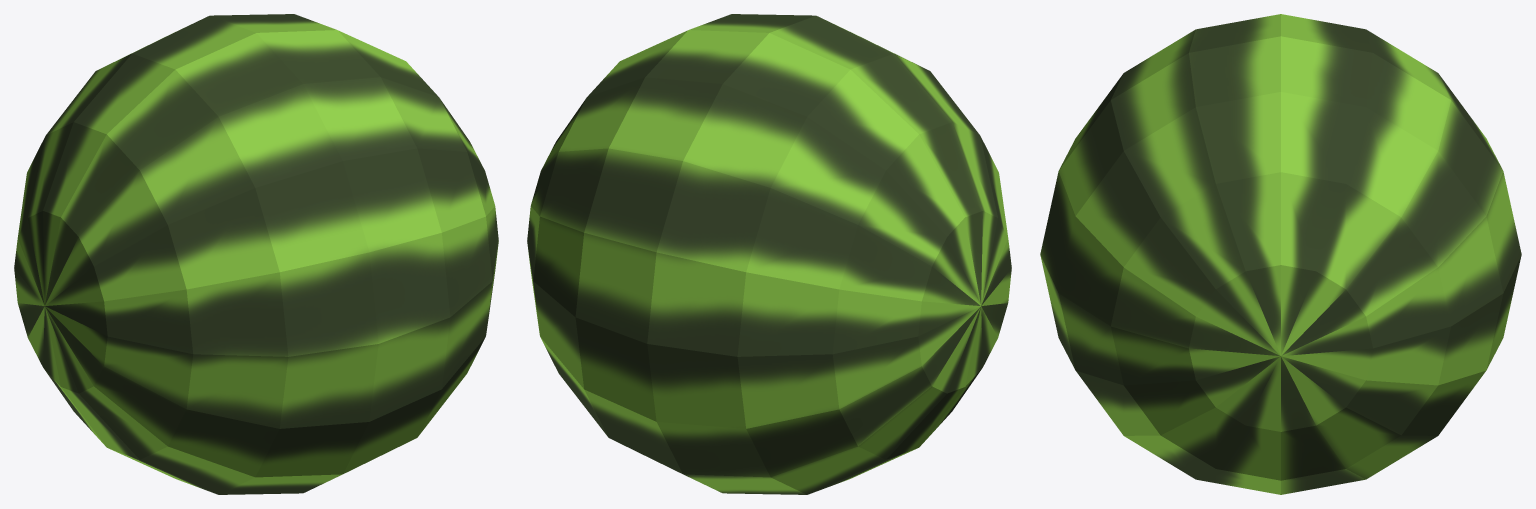
The model's file is watermelon.glb.
3 views of the same model, side by side, from view 1: azimuth 30°, elevation 25°; view 2: azimuth 150°, elevation 25°; view 3: azimuth 270°, elevation 25° (orthographic).
Parts seen in each view (by area): view 1: Full; view 2: Full; view 3: Full.
Part boxes in pixels (x1,y1,x2,y2): Full: [14, 14, 498, 494]; Full: [527, 14, 1011, 494]; Full: [1040, 14, 1521, 494].
Size of the model in its own units: 2 by 2 by 2.
Materials: 1 (1 with a texture image).
